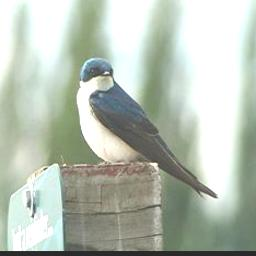Swallow: (75, 57, 219, 200)
